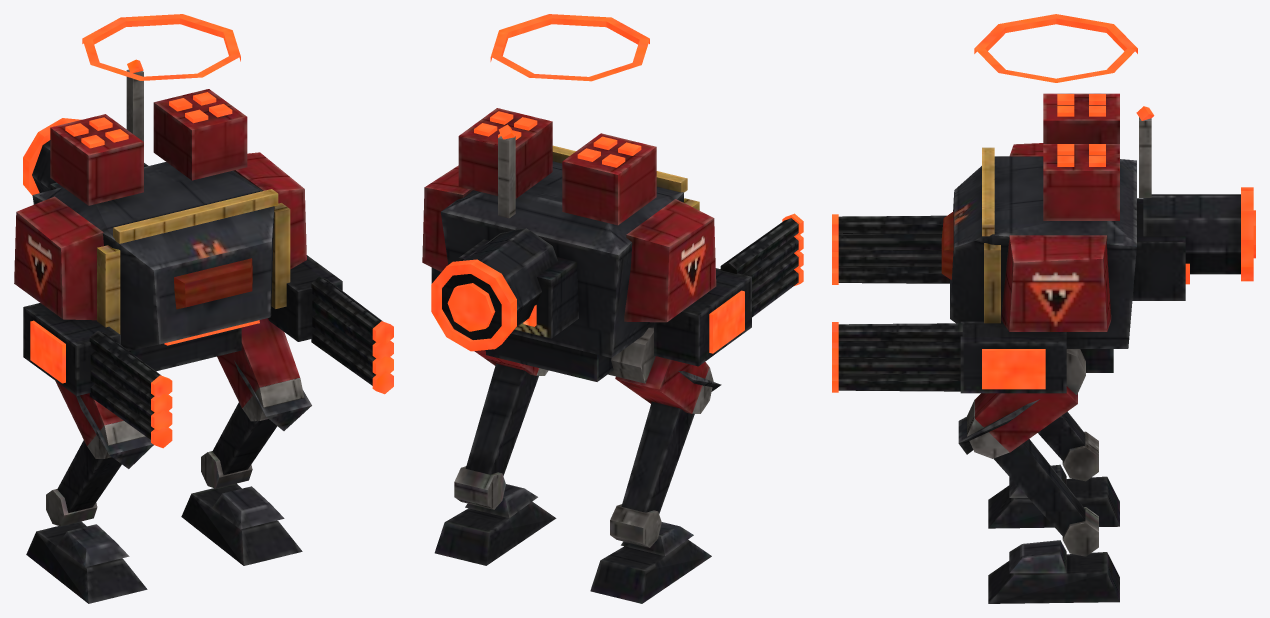
Rendered from u_titan4_e.glb.
3 renders of one model, left to right at view 1: azimuth 30°, elevation 25°; view 2: azimuth 150°, elevation 25°; view 3: azimuth 270°, elevation 25°, orthographic.
Visible parts, largest first — view 1: u_titan4_e; view 2: u_titan4_e; view 3: u_titan4_e.
Part boxes in pixels (<box>): u_titan4_e: <box>14,14,393,603</box>; u_titan4_e: <box>422,14,803,603</box>; u_titan4_e: <box>832,14,1255,603</box>.
Size of the model in its own units: 1.82 by 3.22 by 2.46.
1 material, 1 textured.
